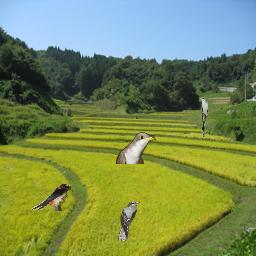Cuckoo: (116, 132, 156, 164), (118, 201, 140, 241), (199, 97, 208, 137)
Swallow: (31, 184, 71, 211)
